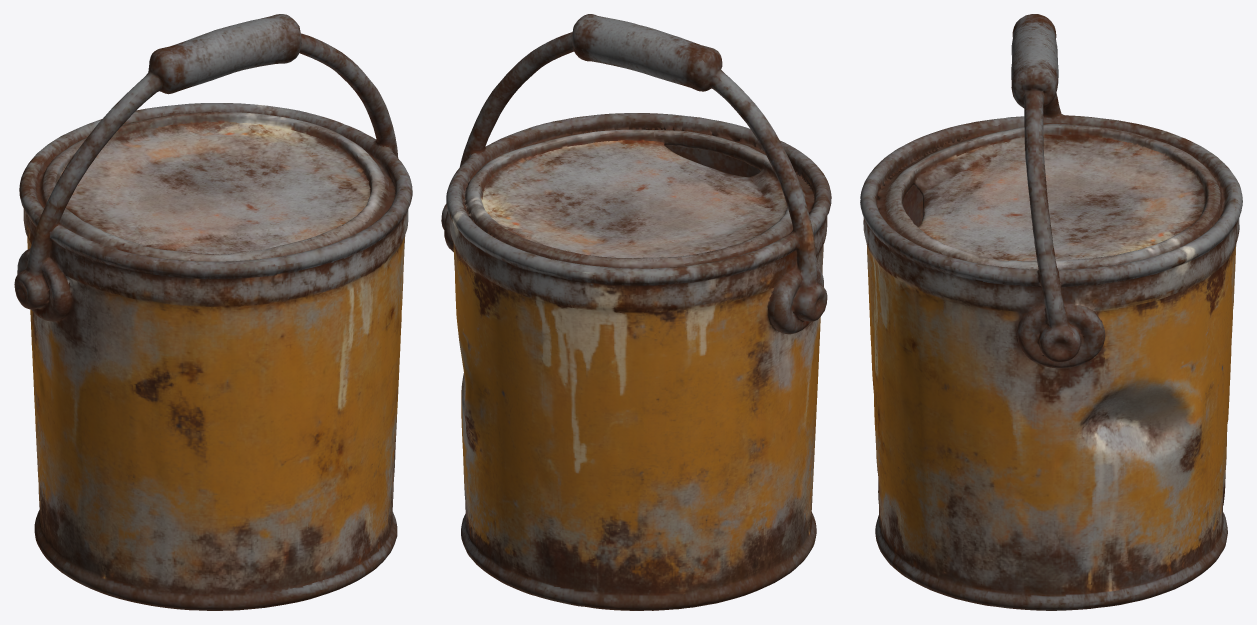
The model's file is raw.glb.
3 renders of one model, left to right at view 1: azimuth 30°, elevation 25°; view 2: azimuth 150°, elevation 25°; view 3: azimuth 270°, elevation 25°, orthographic. The views are drawn at different scales.
Size of the model in its own units: 0.782 by 1.01 by 0.699.
Materials: 1 (1 with a texture image).
